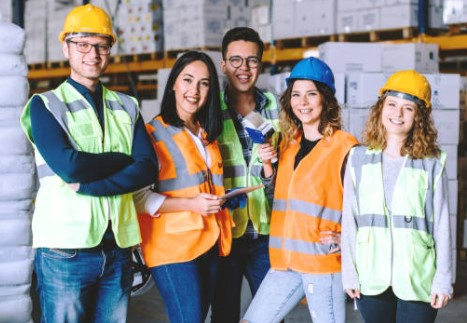worker: (23, 4, 142, 248), (350, 70, 446, 302), (144, 52, 231, 262), (267, 59, 349, 275)
